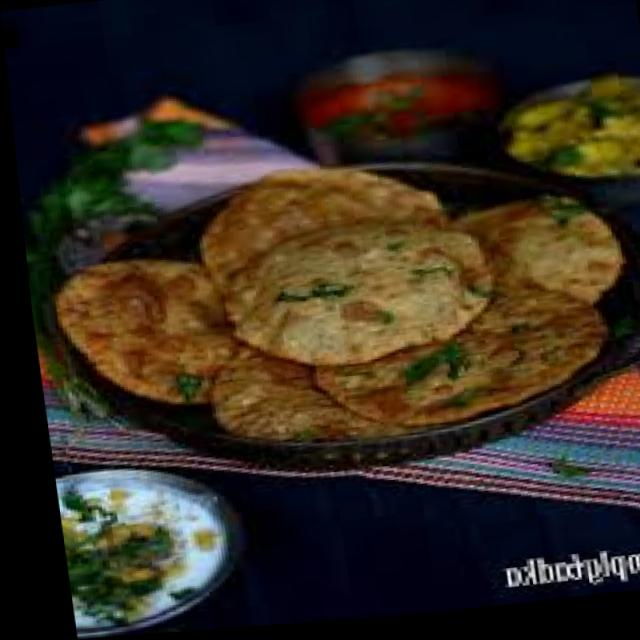CURD: (61, 485, 222, 627)
POORI: (54, 163, 627, 440)
